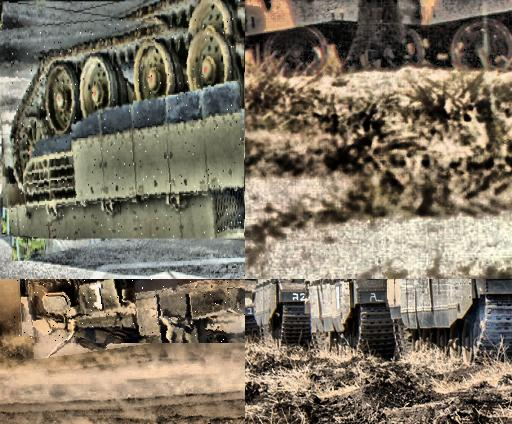tanks: (7, 19, 244, 240), (25, 280, 246, 343), (388, 280, 512, 358), (307, 280, 396, 358), (254, 280, 312, 345), (246, 280, 260, 338)
